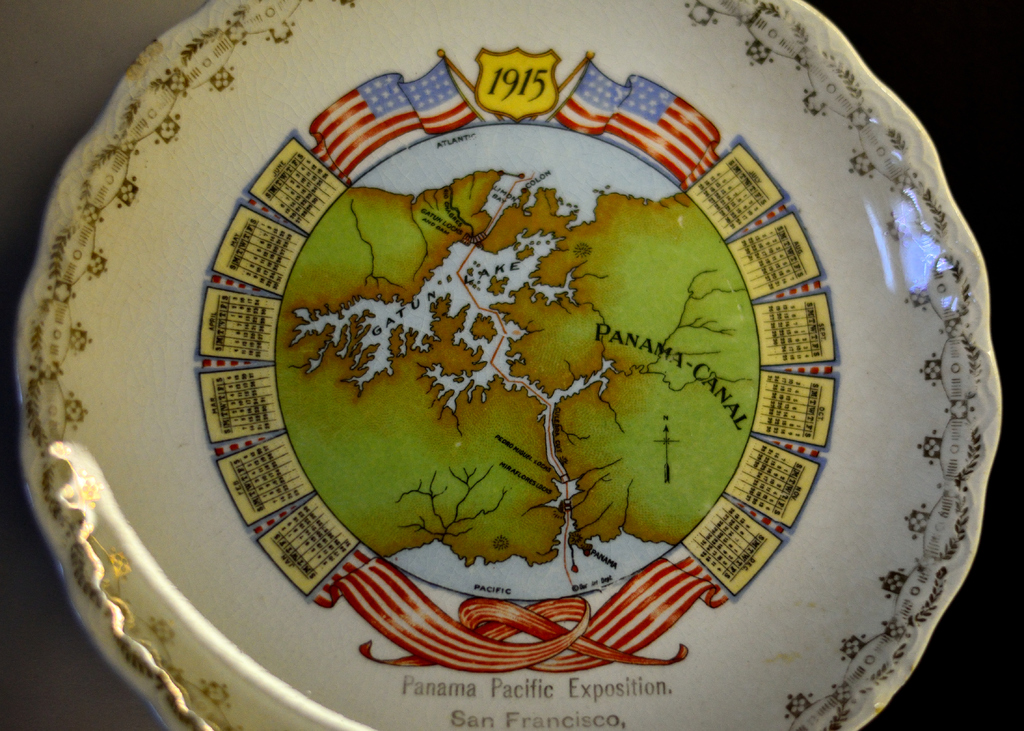plate: (17, 1, 1003, 729)
